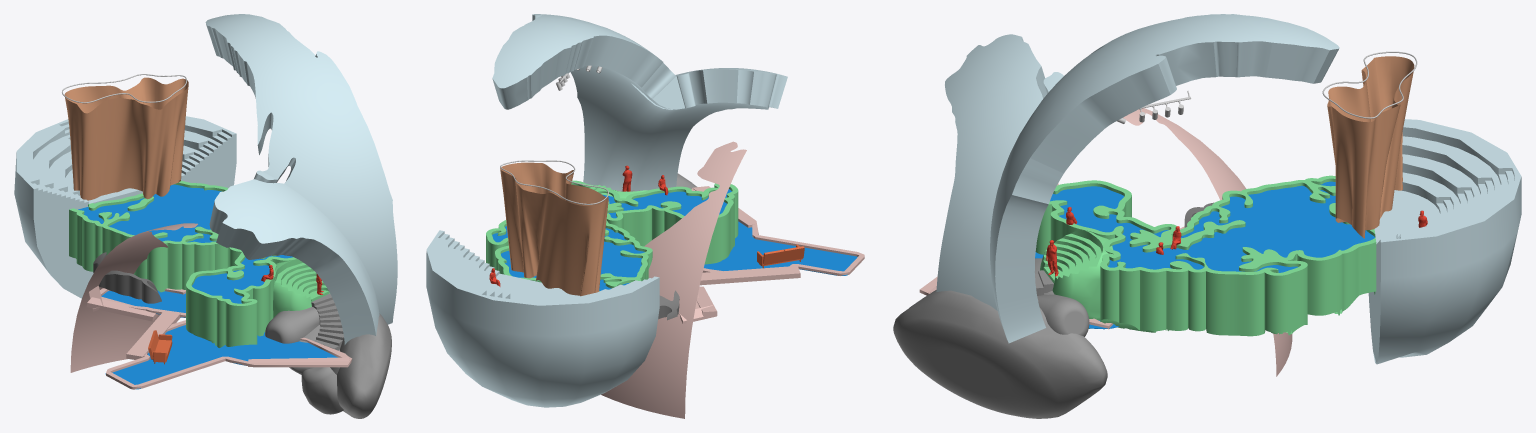
File: building-original.glb
3 renders of one model, left to right at view 1: azimuth 30°, elevation 25°; view 2: azimuth 150°, elevation 25°; view 3: azimuth 270°, elevation 25°, orthographic. The views are drawn at different scales.
Visible parts, largest first — view 1: object_629, object_592, object_1274, object_1256, object_591, object_596, object_781, object_204, object_811, object_1279, object_636, object_1257 (+5 smaller); view 2: object_1256, object_629, object_596, object_592, object_1274, object_591, object_781, object_1279, Cube, object_411, object_877, object_1257; view 3: object_629, object_1256, object_1274, object_811, object_591, object_592, object_636, object_596, object_204.
Part boxes in pixels (x1=…): object_629: x1=205, y1=14, x2=397, y2=344; object_592: x1=64, y1=77, x2=188, y2=200; object_1274: x1=69, y1=180, x2=296, y2=347; object_1256: x1=14, y1=116, x2=236, y2=298; object_591: x1=78, y1=184, x2=292, y2=303; object_596: x1=70, y1=223, x2=197, y2=372; object_781: x1=101, y1=290, x2=337, y2=389; object_204: x1=265, y1=293, x2=343, y2=414; object_811: x1=337, y1=313, x2=391, y2=418; object_1279: x1=100, y1=288, x2=352, y2=389; object_636: x1=273, y1=259, x2=329, y2=317; object_1257: x1=93, y1=252, x2=161, y2=303; object_1256: x1=426, y1=230, x2=659, y2=407; object_629: x1=492, y1=14, x2=787, y2=191; object_596: x1=601, y1=141, x2=746, y2=418; object_592: x1=500, y1=162, x2=608, y2=296; object_1274: x1=486, y1=180, x2=738, y2=291; object_591: x1=492, y1=189, x2=731, y2=290; object_781: x1=704, y1=221, x2=857, y2=275; object_1279: x1=691, y1=186, x2=864, y2=308; Cube: x1=700, y1=265, x2=800, y2=285; object_411: x1=757, y1=244, x2=804, y2=268; object_877: x1=500, y1=160, x2=608, y2=204; object_1257: x1=658, y1=290, x2=679, y2=320; object_629: x1=936, y1=14, x2=1339, y2=343; object_1256: x1=1368, y1=119, x2=1521, y2=364; object_1274: x1=1035, y1=175, x2=1376, y2=336; object_811: x1=893, y1=290, x2=1107, y2=418; object_591: x1=1050, y1=181, x2=1374, y2=272; object_592: x1=1327, y1=56, x2=1414, y2=238; object_636: x1=1040, y1=230, x2=1113, y2=328; object_596: x1=1123, y1=108, x2=1292, y2=376; object_204: x1=1034, y1=258, x2=1089, y2=336.
Size of the model in its own units: 58.83 by 64.05 by 92.93.
